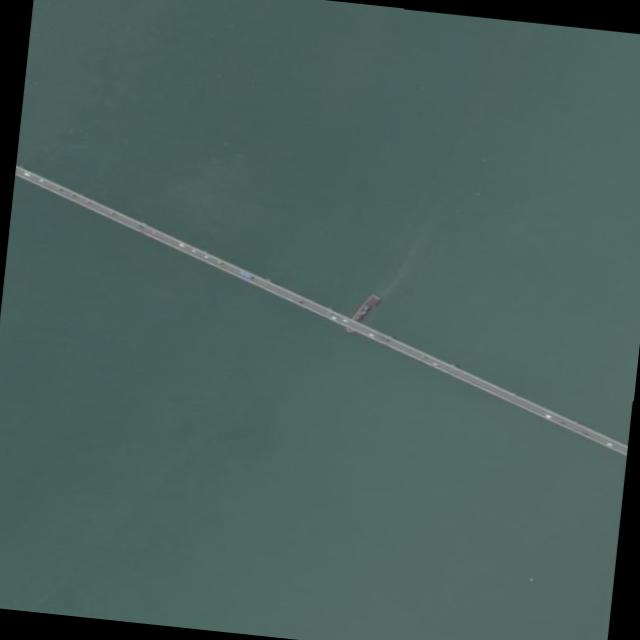ship: (343, 291, 383, 331)
